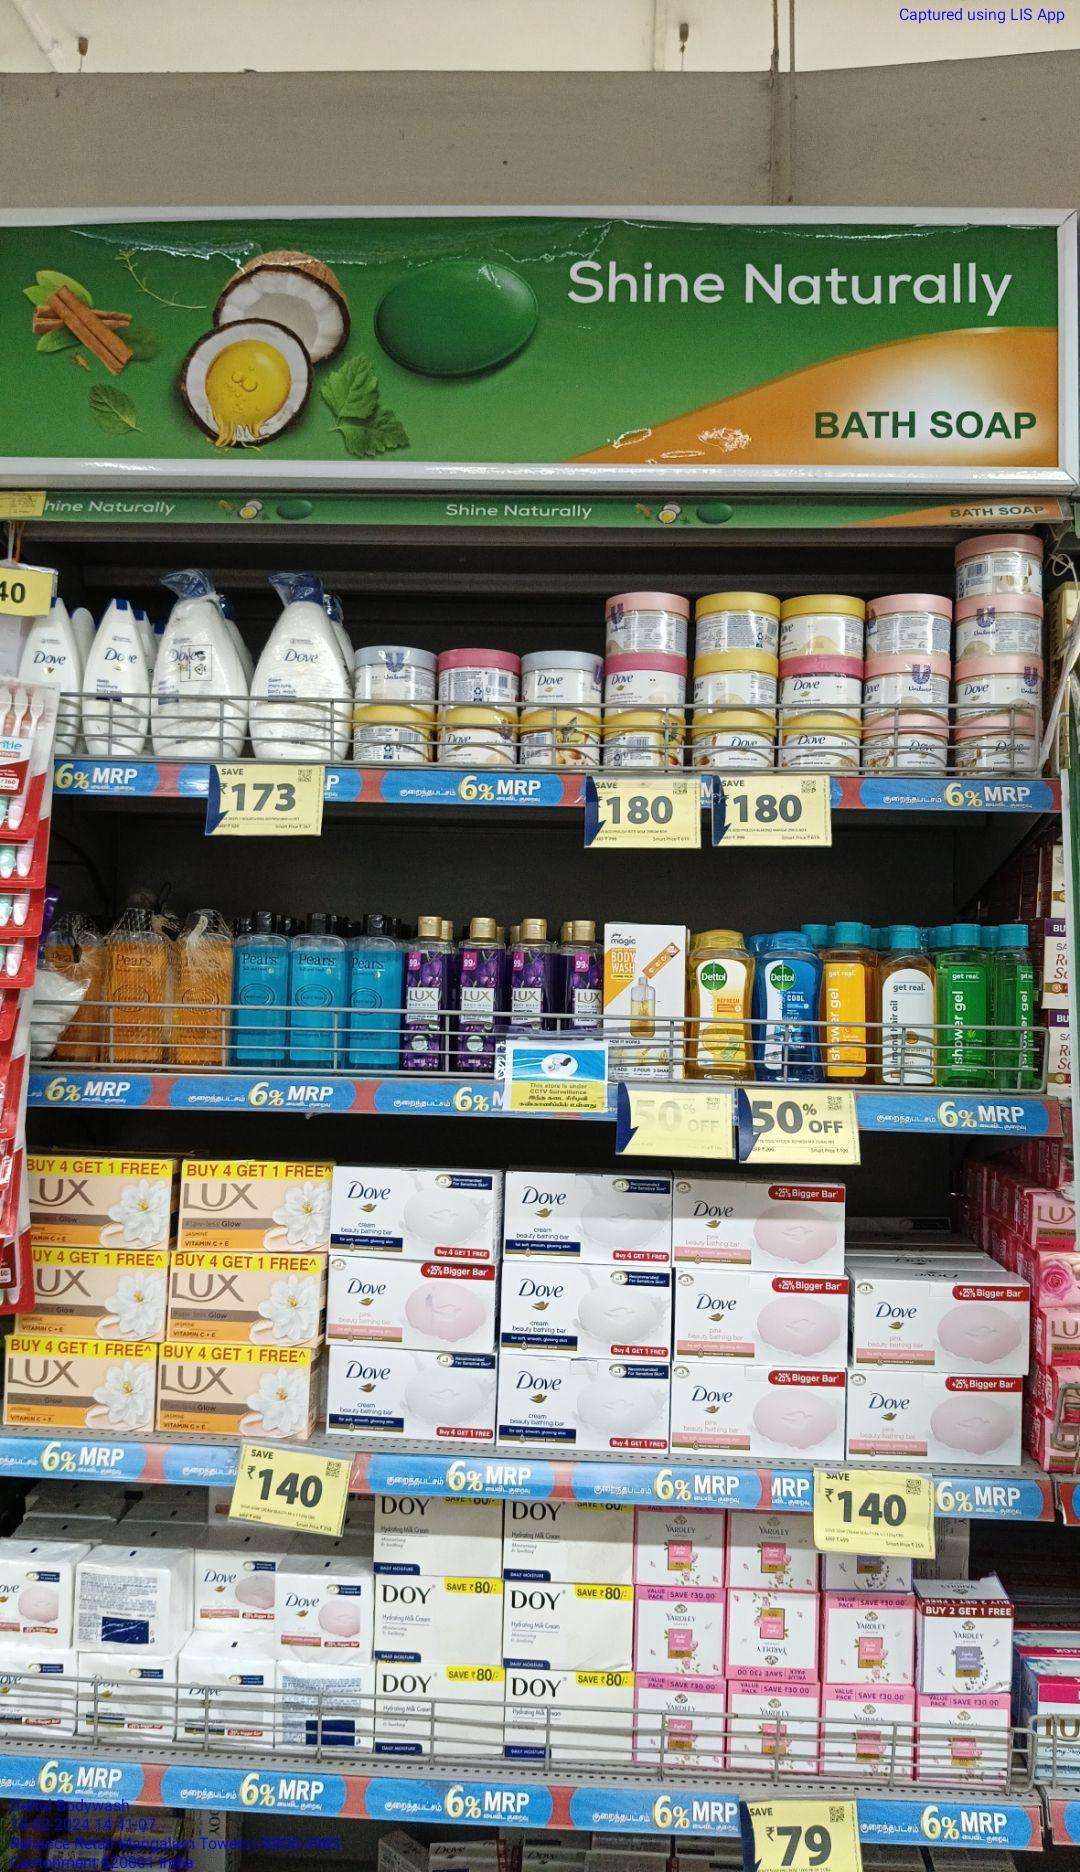Dettol_Bodywash_Cool: (756, 930, 822, 1083)
Dettol_Bodywash_Refresh: (688, 928, 753, 1081)
Lux_Black_Orchid_Scent_and_Juniper_Oil_Body_Wash_245ML: (453, 918, 498, 1072), (405, 919, 447, 1071), (504, 914, 552, 1036), (561, 918, 602, 1039)
Pears_Pure_Glycerin_and_Mint_Extracts_Body_Wash_250ML: (291, 910, 345, 1071), (234, 913, 287, 1066), (350, 913, 402, 1066)
